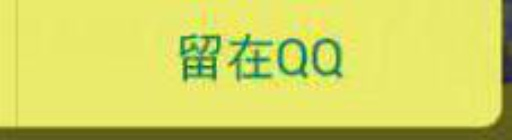Button: (1, 1, 511, 139)
